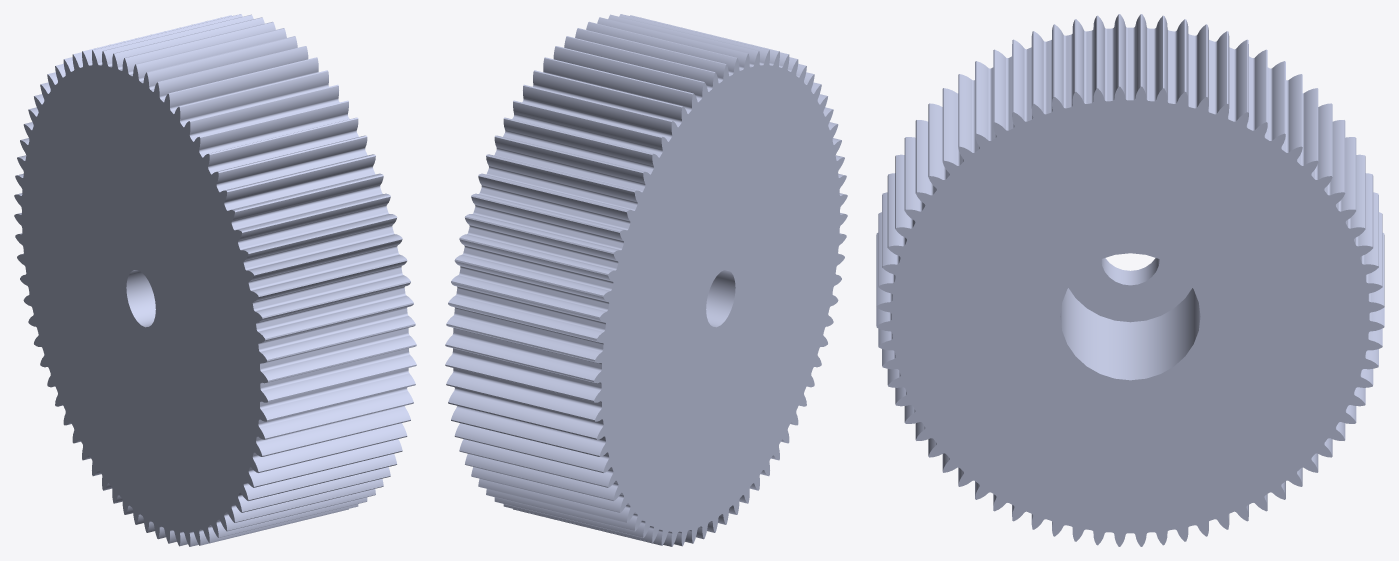
Rendered from spur_gear_4.glb.
The picture shows the model from 3 angles, left to right: view 1: azimuth 30°, elevation 25°; view 2: azimuth 150°, elevation 25°; view 3: azimuth 270°, elevation 25°; orthographic projection.
Parts seen in each view (by area): view 1: spur_gear_4; view 2: spur_gear_4; view 3: spur_gear_4.
Boxes of the visible parts, left/top/right/bottom form: spur_gear_4: left=14, top=14, right=416, bottom=546; spur_gear_4: left=445, top=14, right=847, bottom=546; spur_gear_4: left=876, top=14, right=1384, bottom=546.
Bounding box in the file's own units: 0.0875 × 0.2588 × 0.2588.
